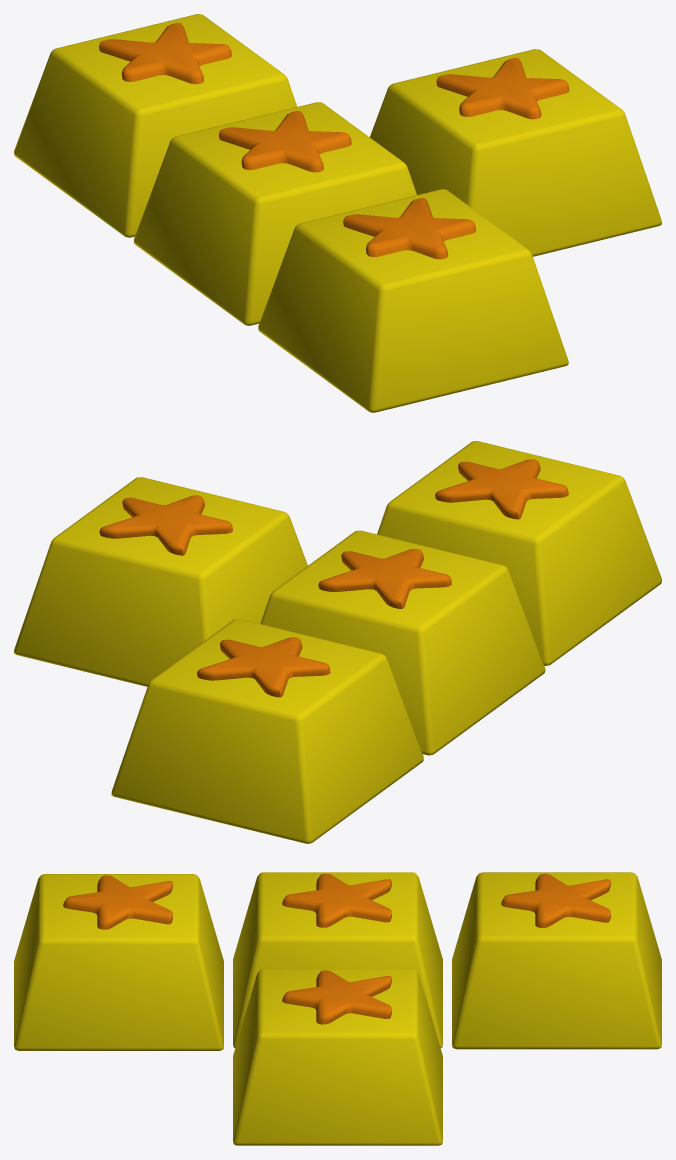
File: T_piece rightface_low poly.fbx
3 views of the same model, one above another, from view 1: azimuth 30°, elevation 25°; view 2: azimuth 150°, elevation 25°; view 3: azimuth 270°, elevation 25° (orthographic). The views are drawn at different scales.
Parts seen in each view (by area): view 1: Cube.051; view 2: Cube.051; view 3: Cube.051.
Part boxes in pixels (left/top/right/bottom): Cube.051: left=14, top=14, right=661, bottom=412; Cube.051: left=14, top=441, right=661, bottom=843; Cube.051: left=14, top=872, right=661, bottom=1145.
Size of the model in its own units: 41.54 by 7.84 by 28.14.
